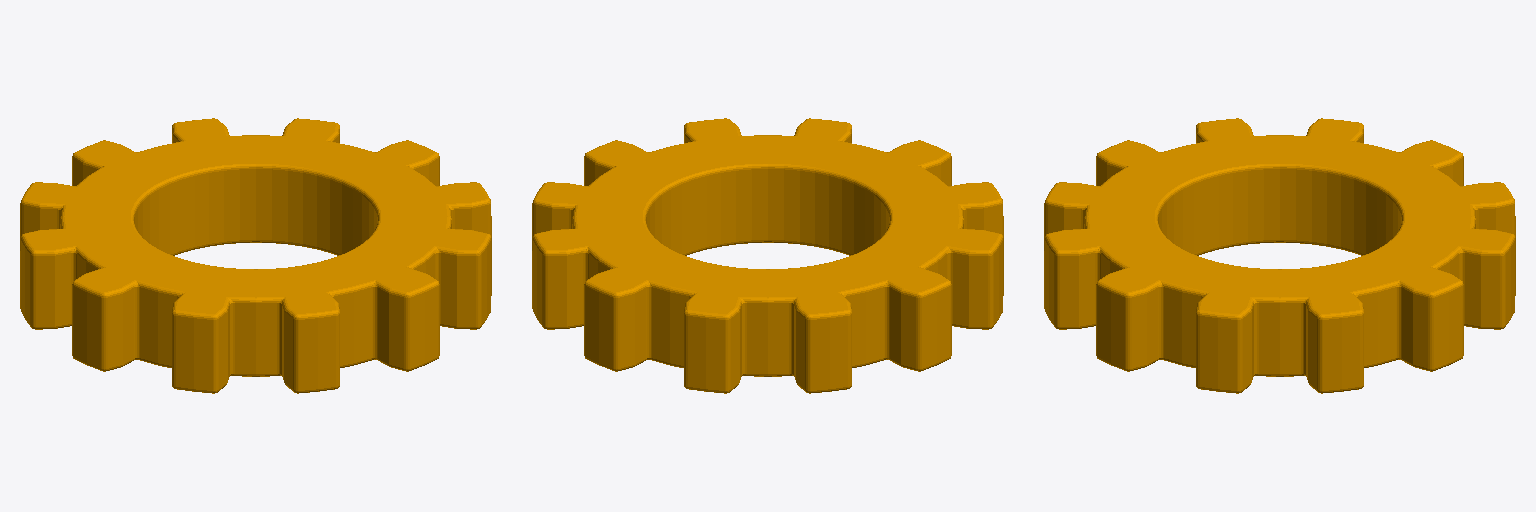
robot.urdf — gear:

<robot name="gear">
    <link name="base">
        <inertial>
            <origin xyz="-0.0 0.0 -0.0" />
            <mass value="0.2842" />
            <inertia ixx="0.0482" ixy="0.0" 
                     ixz="0.0" iyy="0.0482" 
                     iyz="-0.0" izz="0.0927" />
        </inertial>
        <visual>
            <origin xyz="0 0 0" />
            <geometry>
                <mesh filename="visual_geometry.obj" />
            </geometry>
        </visual>
        <collision>
            <origin xyz="0 0 0" />
            <geometry>
                <mesh filename="collision_geometry.obj" />
            </geometry>
        </collision>
    </link>
</robot>

--- What the picture shows (computed from the rendered views, not written in the file) ---
3 views of the same robot in one strip: view 1: azimuth 30°, elevation 25°; view 2: azimuth 150°, elevation 25°; view 3: azimuth 270°, elevation 25° (orthographic).
Robot: gear — 1 links, 0 joints (none); root link base; default pose: all joints at 0.
Links seen in each view (by area): view 1: base; view 2: base; view 3: base.
Boxes of the visible links, x1,y1,x2,y2 form: base: (20,118,491,393); base: (532,118,1003,393); base: (1044,118,1515,393).
Bounding box of the posed robot: 1.5 × 1.5 × 0.2772 m (x, y, z).
1 mesh visuals loaded from 1 distinct referenced files (1 OBJ).